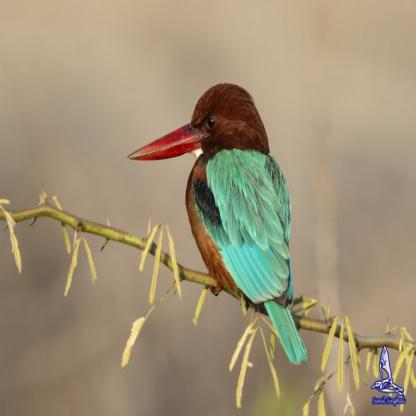Burung: (128, 82, 307, 366)
